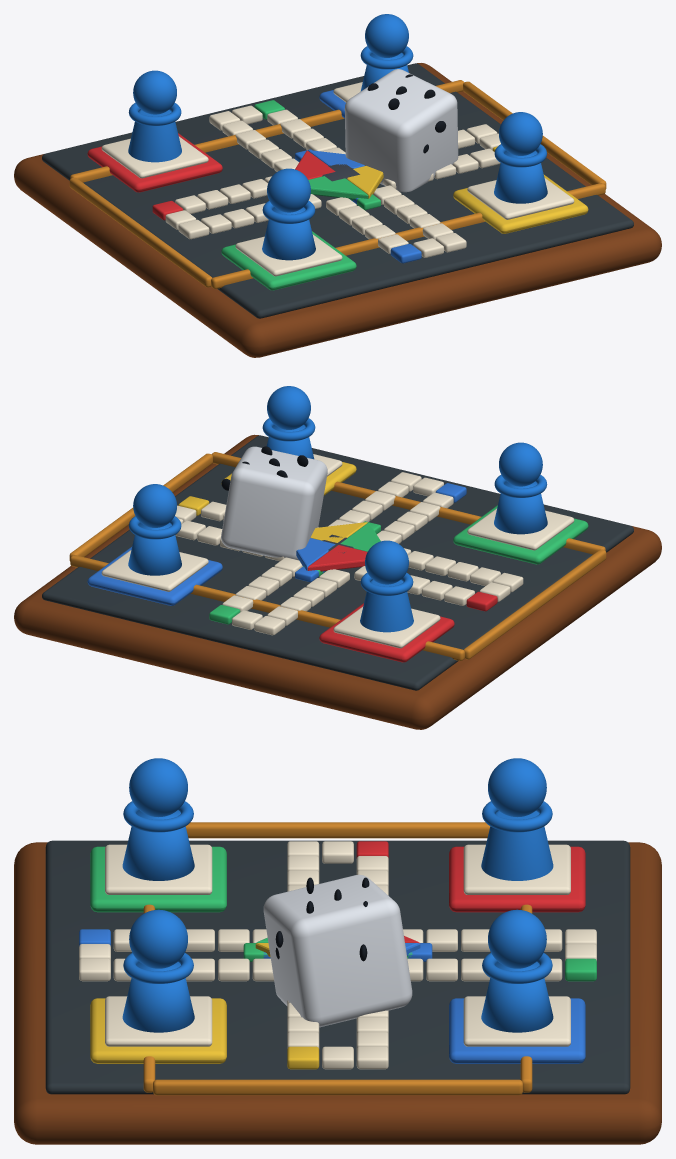
The model's file is ludomada-gameplay-rev5.glb.
The picture shows the model from 3 angles, top to bottom: view 1: azimuth 30°, elevation 25°; view 2: azimuth 150°, elevation 25°; view 3: azimuth 270°, elevation 25°; orthographic projection. The views are drawn at different scales.
Visible parts, largest first — view 1: LM_Board_Recessed_Surface, LM_Table_Deep_Base, LM_Die_HydroChrome_Body, LM_Home_0_Base, LM_Home_1_Base, LM_Home_2_Base, LM_Board_Gold_Frame.002, LM_Board_Gold_Frame, LM_Pawn_Tapered_Body_GREEN, LM_Pawn_Tapered_Body_GOLD, LM_Pawn_Tapered_Body, LM_Home_1_Inset (+16 smaller); view 2: LM_Board_Recessed_Surface, LM_Table_Deep_Base, LM_Die_HydroChrome_Body, LM_Home_0_Base, LM_Home_1_Base, LM_Home_3_Base, LM_Board_Gold_Frame.002, LM_Board_Gold_Frame.001, LM_Pawn_Tapered_Body, LM_Pawn_Tapered_Body_GREEN, LM_Pawn_Tapered_Body_BLUE, LM_Home_0_Inset (+18 smaller); view 3: LM_Board_Recessed_Surface, LM_Table_Deep_Base, LM_Die_HydroChrome_Body, LM_Board_Gold_Frame.003, LM_Board_Gold_Frame.002, LM_Home_2_Base, LM_Home_3_Base, LM_Home_0_Base, LM_Home_1_Base, LM_Pawn_Tapered_Body_BLUE, LM_Pawn_Tapered_Body_GOLD, LM_Pawn_Tapered_Body_GREEN (+27 smaller).
Part boxes in pixels (x1,y1,x2,y2): LM_Board_Recessed_Surface: (42,63,633,318); LM_Table_Deep_Base: (14,63,661,357); LM_Die_HydroChrome_Body: (344,69,458,192); LM_Home_0_Base: (87,133,222,192); LM_Home_1_Base: (221,231,356,290); LM_Home_2_Base: (453,174,588,233); LM_Board_Gold_Frame.002: (69,177,212,287); LM_Board_Gold_Frame: (211,183,605,288); LM_Pawn_Tapered_Body_GREEN: (262,207,315,260); LM_Pawn_Tapered_Body_GOLD: (494,150,547,203); LM_Pawn_Tapered_Body: (128,110,181,162); LM_Home_1_Inset: (235,234,342,276); LM_Board_Recessed_Surface: (42,435,633,690); LM_Table_Deep_Base: (14,434,661,729); LM_Die_HydroChrome_Body: (221,446,327,560); LM_Home_0_Base: (319,603,454,662); LM_Home_1_Base: (453,505,588,564); LM_Home_3_Base: (87,546,222,605); LM_Board_Gold_Frame.002: (463,549,606,659); LM_Board_Gold_Frame.001: (70,555,464,660); LM_Pawn_Tapered_Body: (360,580,413,632); LM_Pawn_Tapered_Body_GREEN: (494,481,547,534); LM_Pawn_Tapered_Body_BLUE: (128,522,181,575); LM_Home_0_Inset: (333,606,440,648); LM_Board_Recessed_Surface: (45,840,630,1094); LM_Table_Deep_Base: (14,842,661,1144); LM_Die_HydroChrome_Body: (263,874,412,1027); LM_Board_Gold_Frame.003: (153,1079,522,1095); LM_Board_Gold_Frame.002: (185,822,490,838); LM_Home_2_Base: (90,998,226,1063); LM_Home_3_Base: (449,998,585,1063); LM_Home_0_Base: (449,846,585,912); LM_Home_1_Base: (90,846,226,912); LM_Pawn_Tapered_Body_BLUE: (481,961,553,1032); LM_Pawn_Tapered_Body_GOLD: (122,961,194,1032); LM_Pawn_Tapered_Body_GREEN: (122,810,194,880).
Size of what is drawn, in the model's own units: 5.6 by 1.7 by 5.6.
